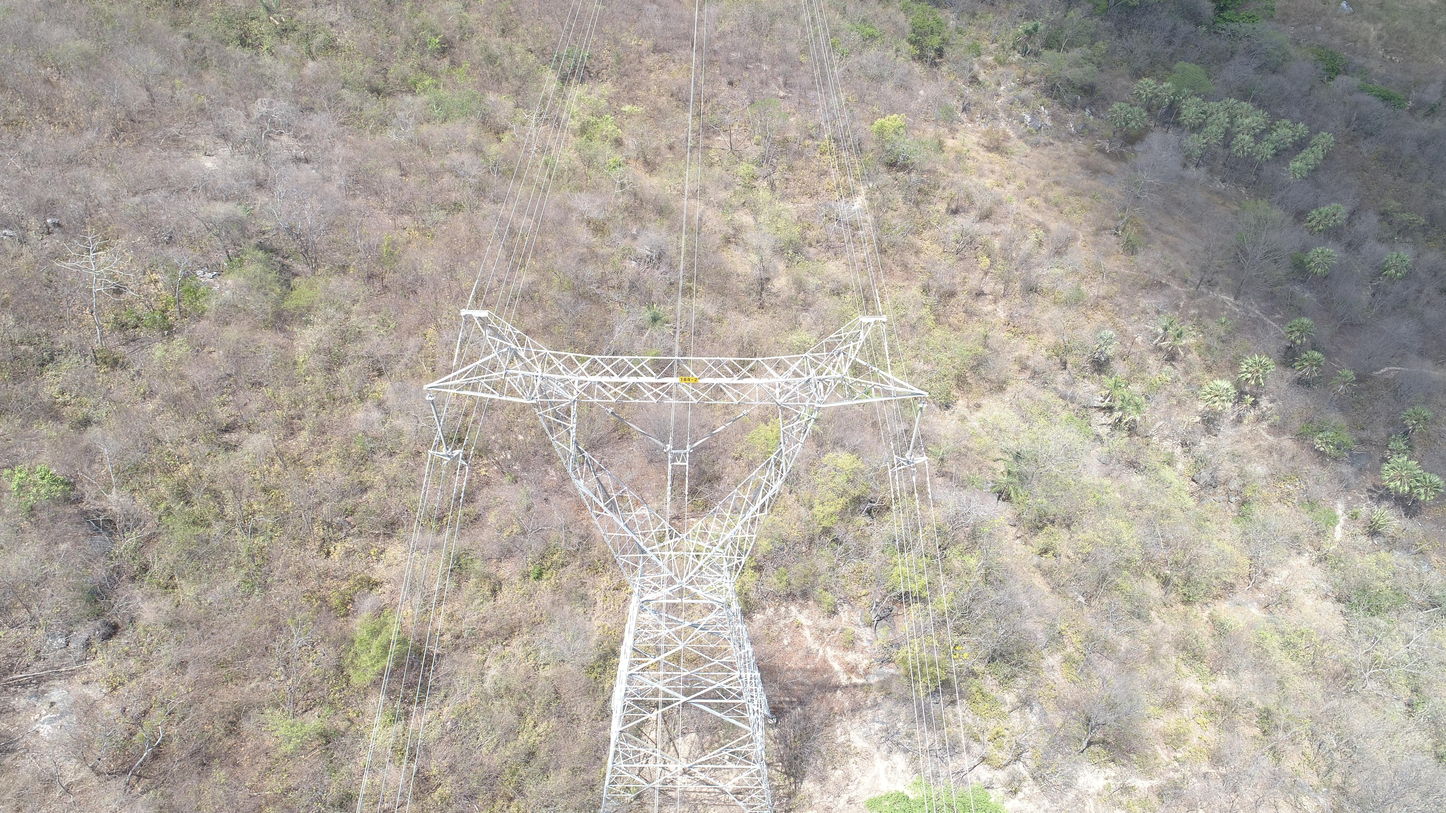power_tower: (419, 307, 933, 812)
